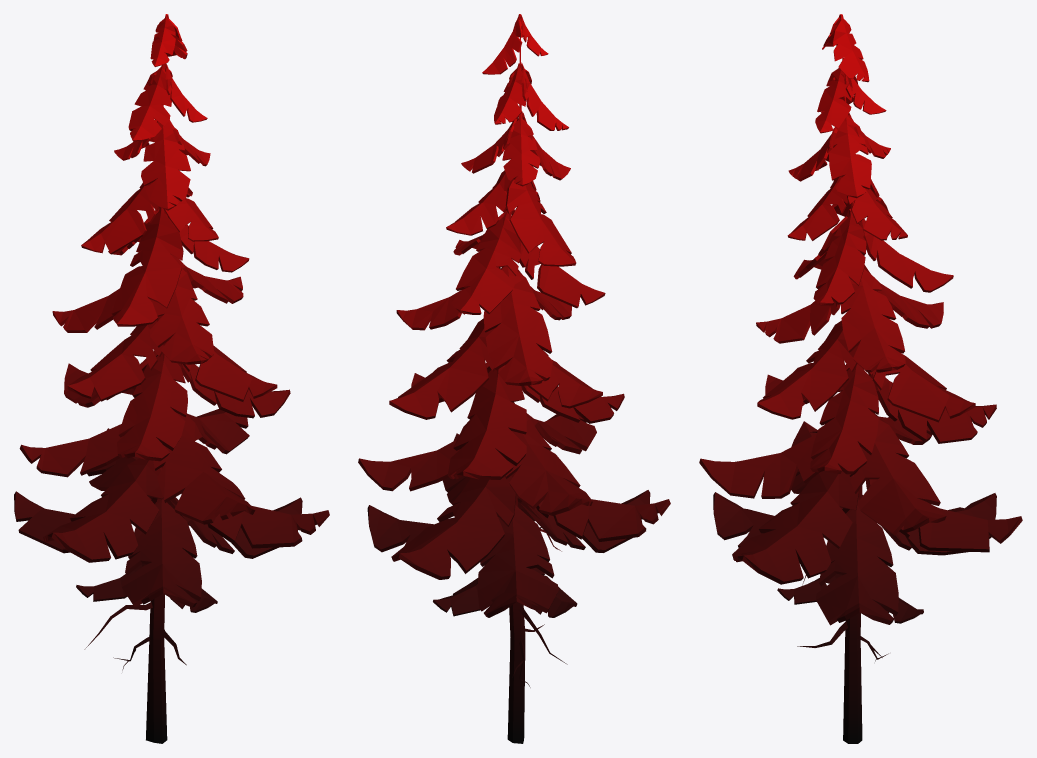
The model's file is TreeSpruce03.fbx.
The picture shows the model from 3 angles, left to right: view 1: azimuth 30°, elevation 25°; view 2: azimuth 150°, elevation 25°; view 3: azimuth 270°, elevation 25°; orthographic projection.
Visible parts, largest first — view 1: TreeSpruce03_LOD0; view 2: TreeSpruce03_LOD0; view 3: TreeSpruce03_LOD0.
Boxes of the visible parts, <box> form: TreeSpruce03_LOD0: <box>14,14,329,743</box>; TreeSpruce03_LOD0: <box>358,14,670,743</box>; TreeSpruce03_LOD0: <box>699,14,1022,743</box>.
Size of what is drawn, in the model's own units: 124 by 309 by 124.
